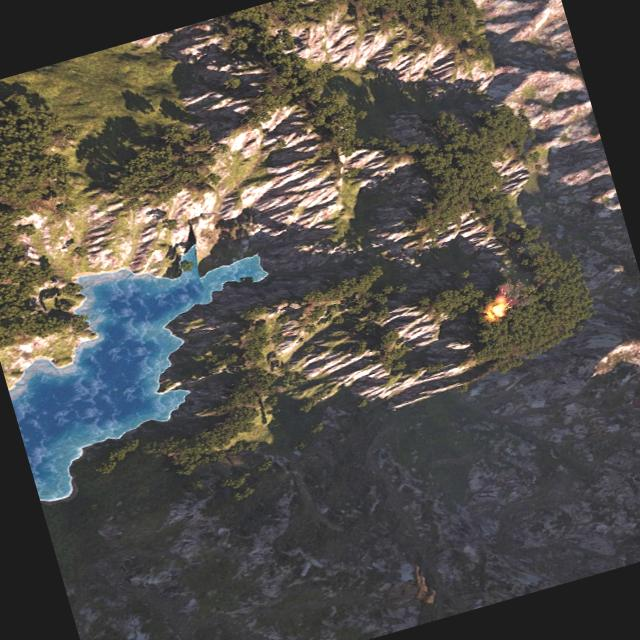fire: (484, 295, 511, 320)
